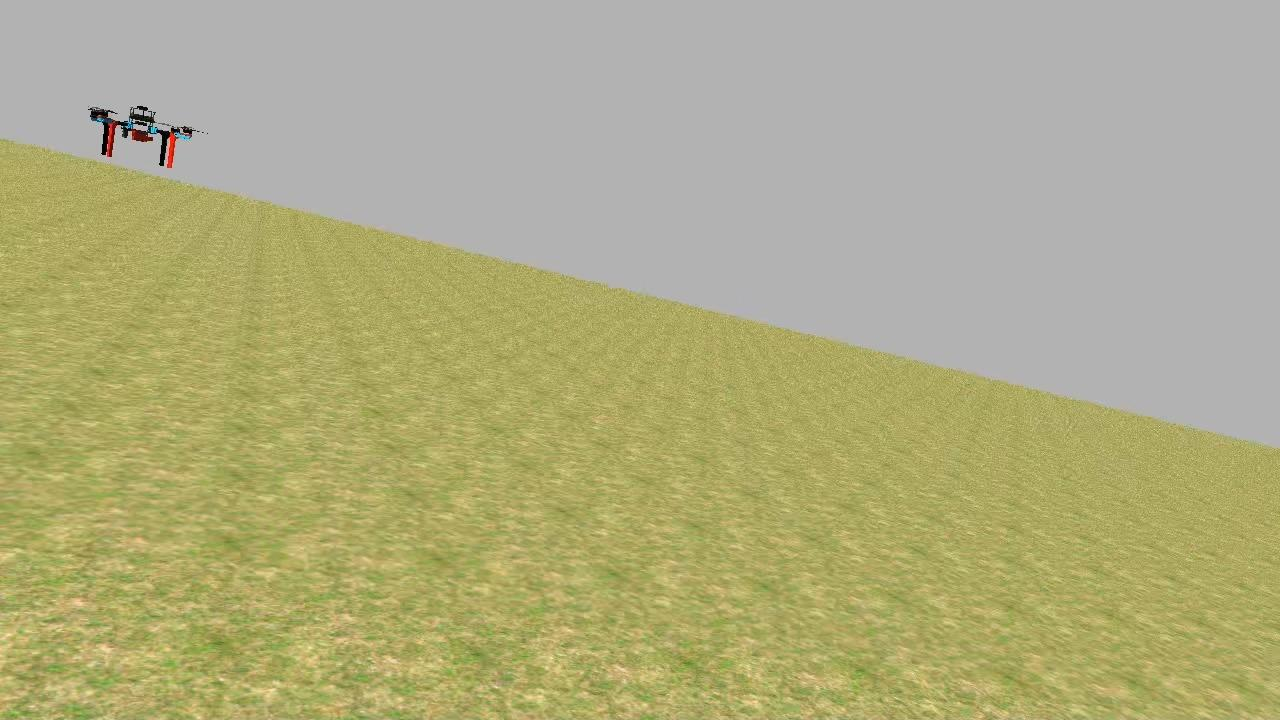UAV: (84, 88, 202, 170)
